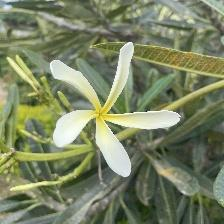champaka: (49, 41, 183, 180)
